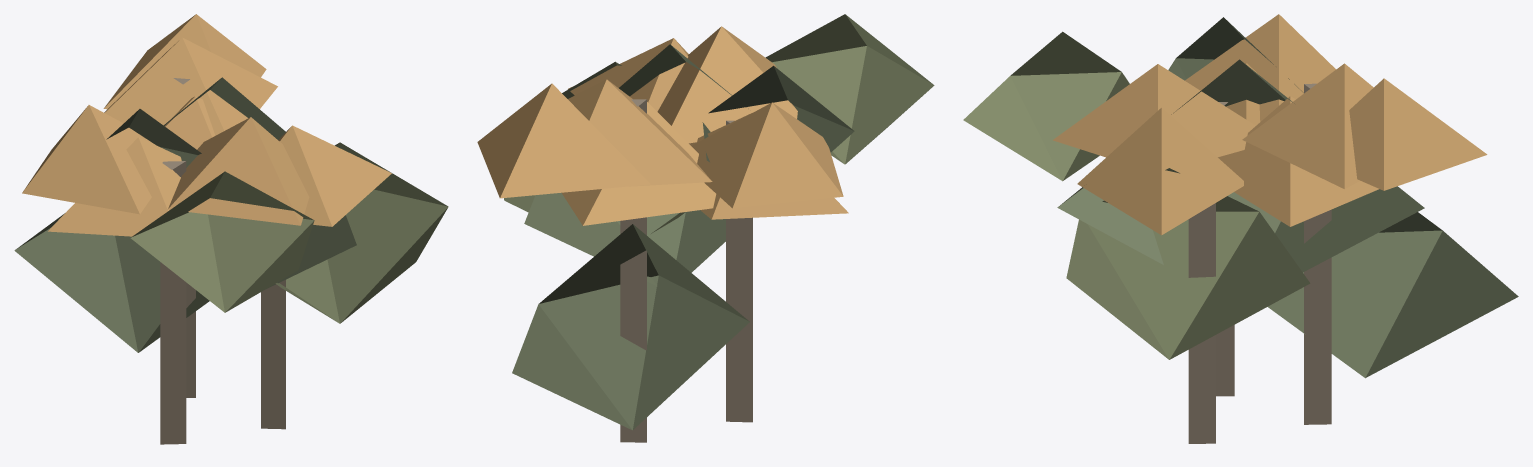
File: shrub.trop.flower_bush__winter.glb
3 renders of one model, left to right at view 1: azimuth 30°, elevation 25°; view 2: azimuth 150°, elevation 25°; view 3: azimuth 270°, elevation 25°, orthographic. The views are drawn at different scales.
Parts seen in each view (by area): view 1: shrub.trop.flower_bush__winter; view 2: shrub.trop.flower_bush__winter; view 3: shrub.trop.flower_bush__winter.
Boxes of the visible parts, x1=… form: shrub.trop.flower_bush__winter: x1=14, y1=14, x2=448, y2=444; shrub.trop.flower_bush__winter: x1=477, y1=14, x2=934, y2=442; shrub.trop.flower_bush__winter: x1=963, y1=14, x2=1518, y2=443.
Size of the model in its own units: 2.19 by 1.97 by 2.66.
